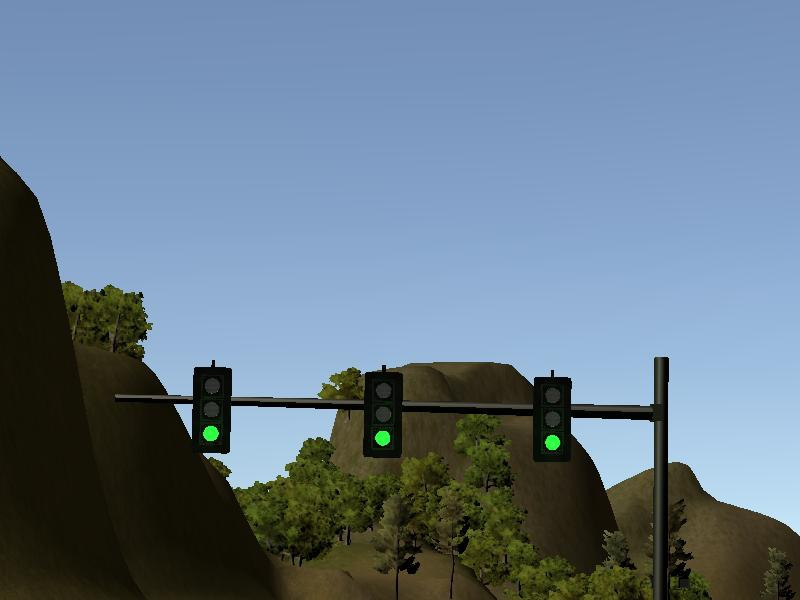Green: (193, 368, 230, 453), (364, 371, 400, 458), (534, 376, 570, 461)
